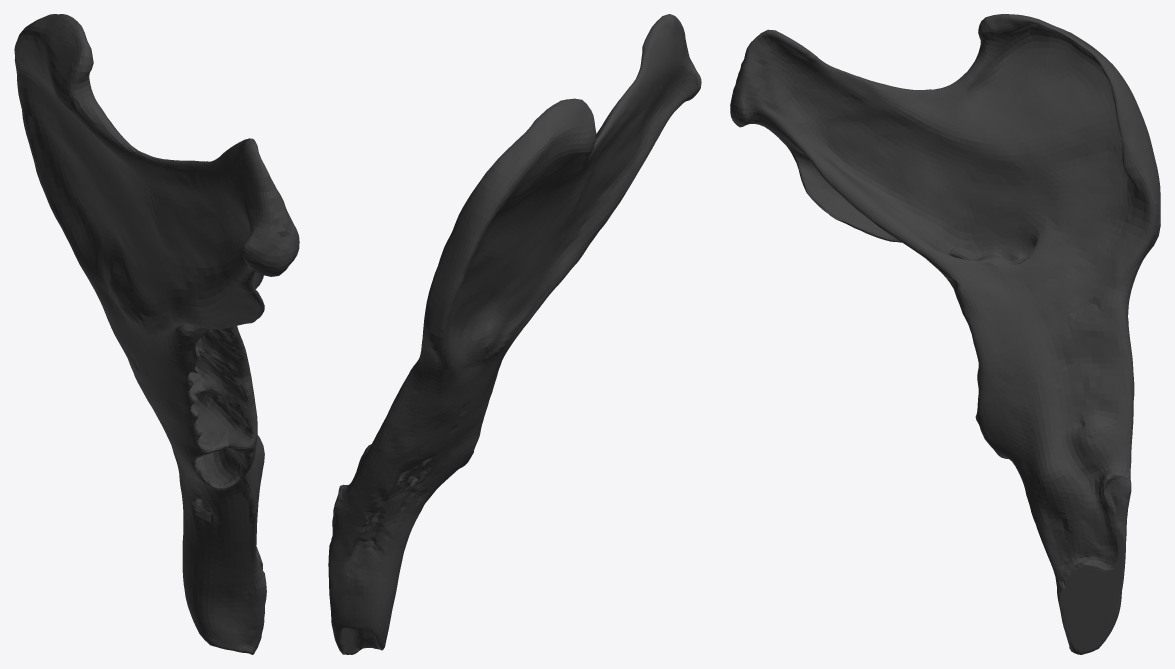
Rendered from MANDIBLE_R_low.glb.
The picture shows the model from 3 angles, left to right: view 1: azimuth 30°, elevation 25°; view 2: azimuth 150°, elevation 25°; view 3: azimuth 270°, elevation 25°; orthographic projection. The views are drawn at different scales.
Visible parts, largest first — view 1: MANDIBLE_R_low; view 2: MANDIBLE_R_low; view 3: MANDIBLE_R_low.
Boxes of the visible parts, x1,y1,x2,y2 form: MANDIBLE_R_low: (14, 14, 299, 654); MANDIBLE_R_low: (328, 14, 701, 654); MANDIBLE_R_low: (730, 14, 1160, 654).
Size of the model in its own units: 2.09 by 5.73 by 4.01.
1 material, 1 textured.
